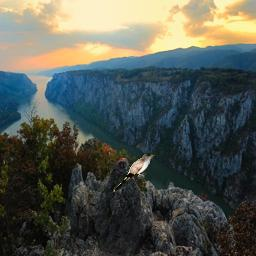Cuckoo: (113, 153, 156, 192)
